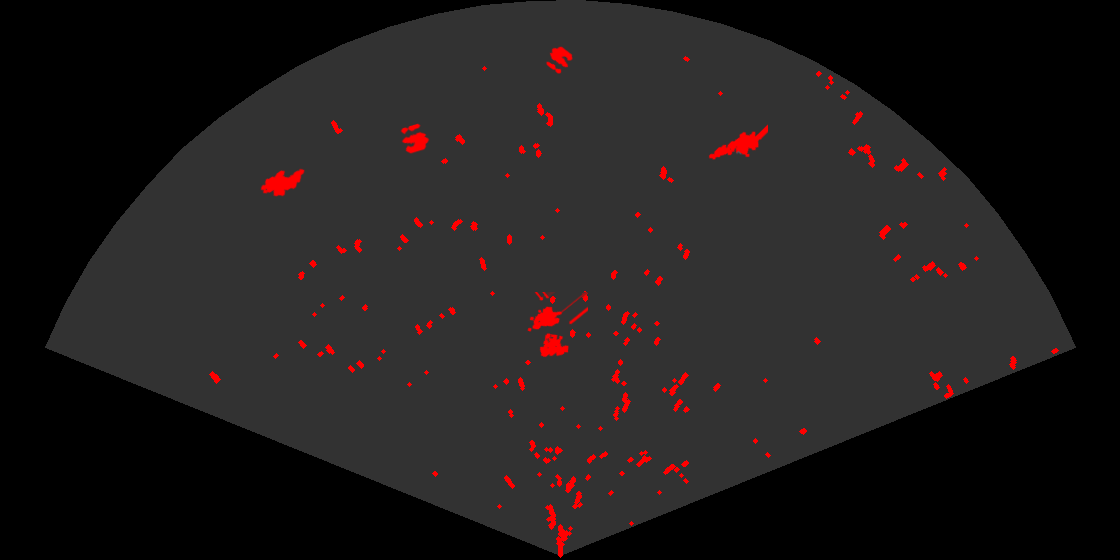AUV: (259, 167, 306, 198)
ball: (399, 122, 431, 155), (544, 45, 574, 75)
cage: (526, 292, 588, 359)
frogman: (707, 123, 768, 161)
